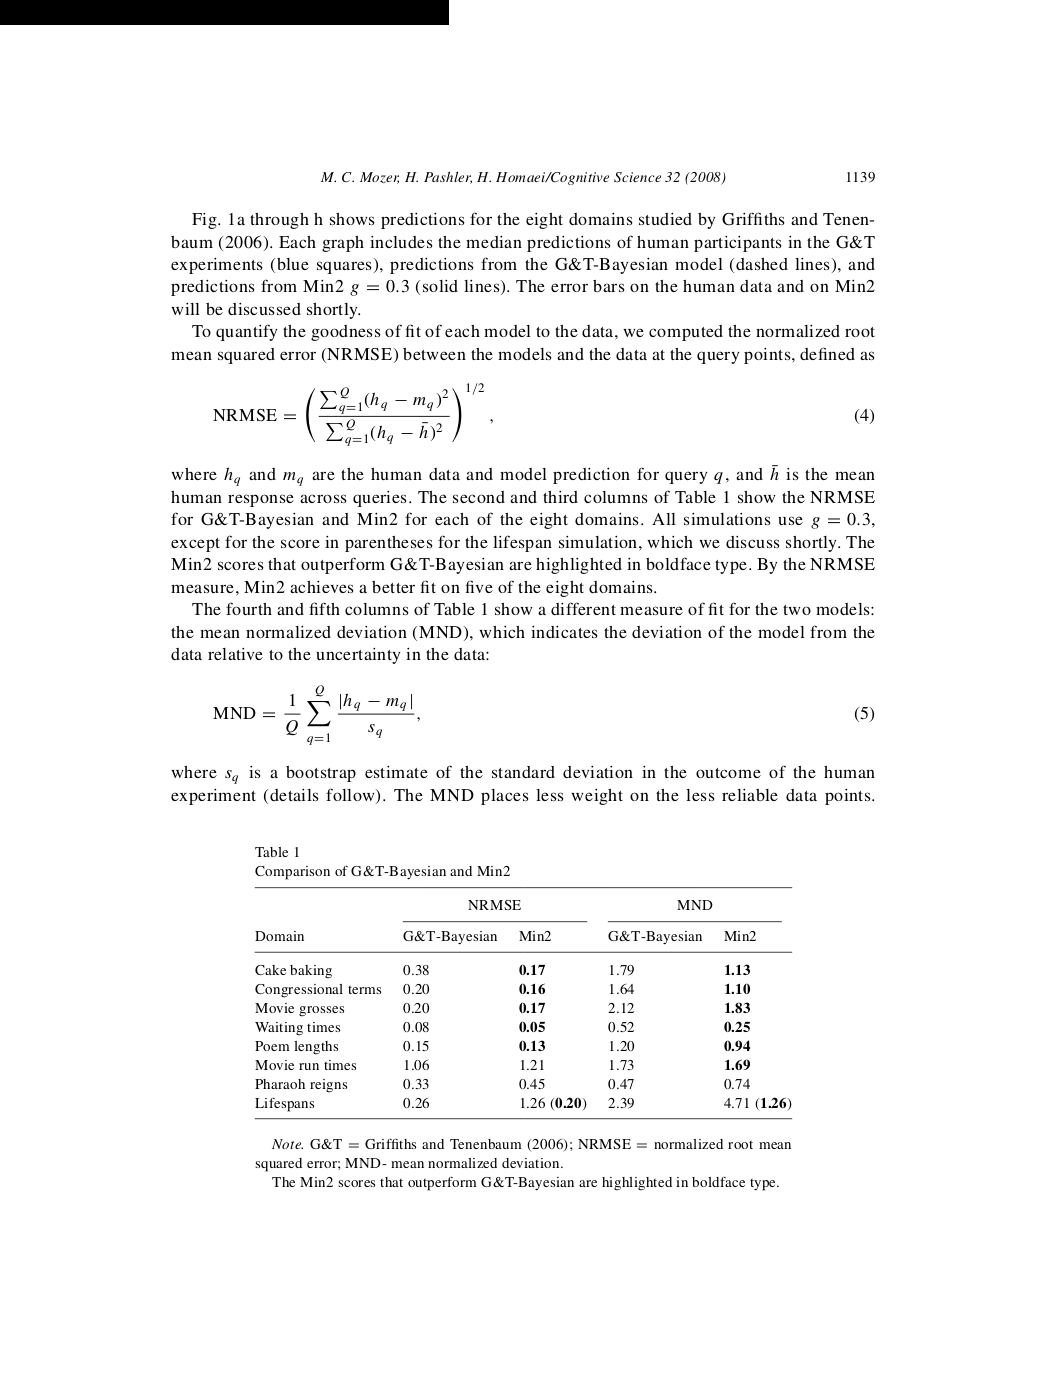Table: (254, 887, 792, 1119)
formula: (213, 382, 874, 446), (213, 684, 874, 744)
